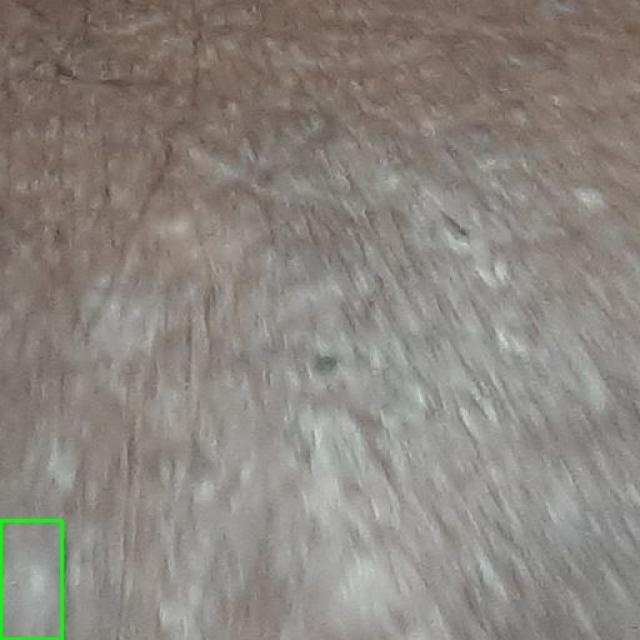Eczema: (0, 520, 61, 639)
